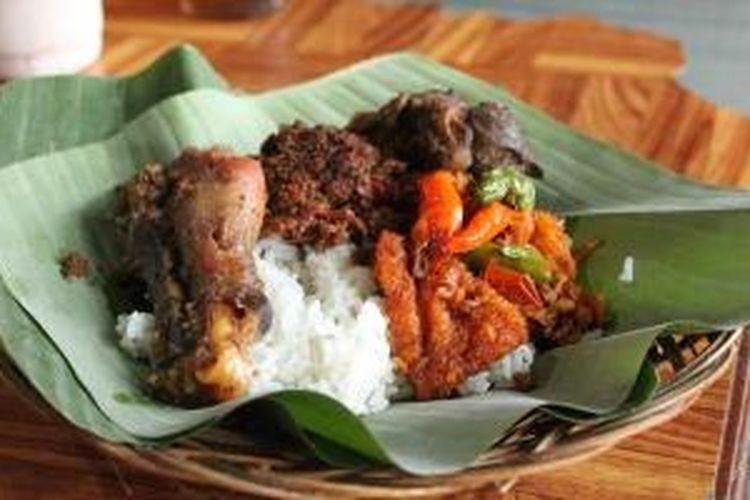gudeg: (108, 86, 579, 398)
